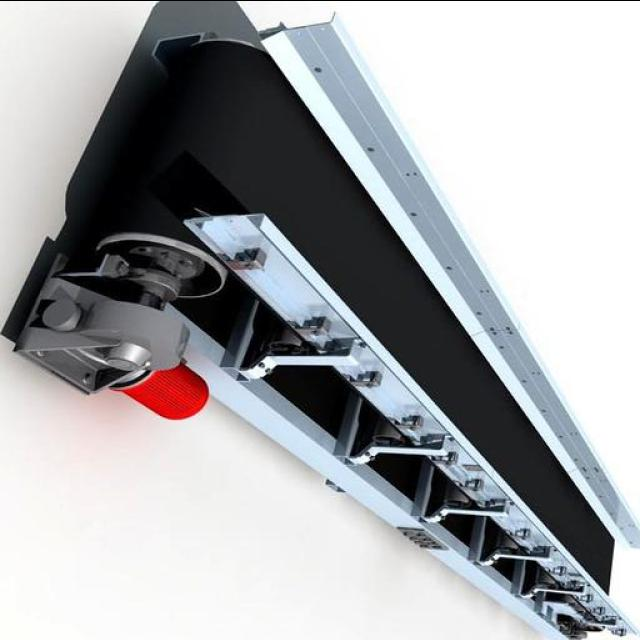conveyor: (65, 40, 617, 613)
